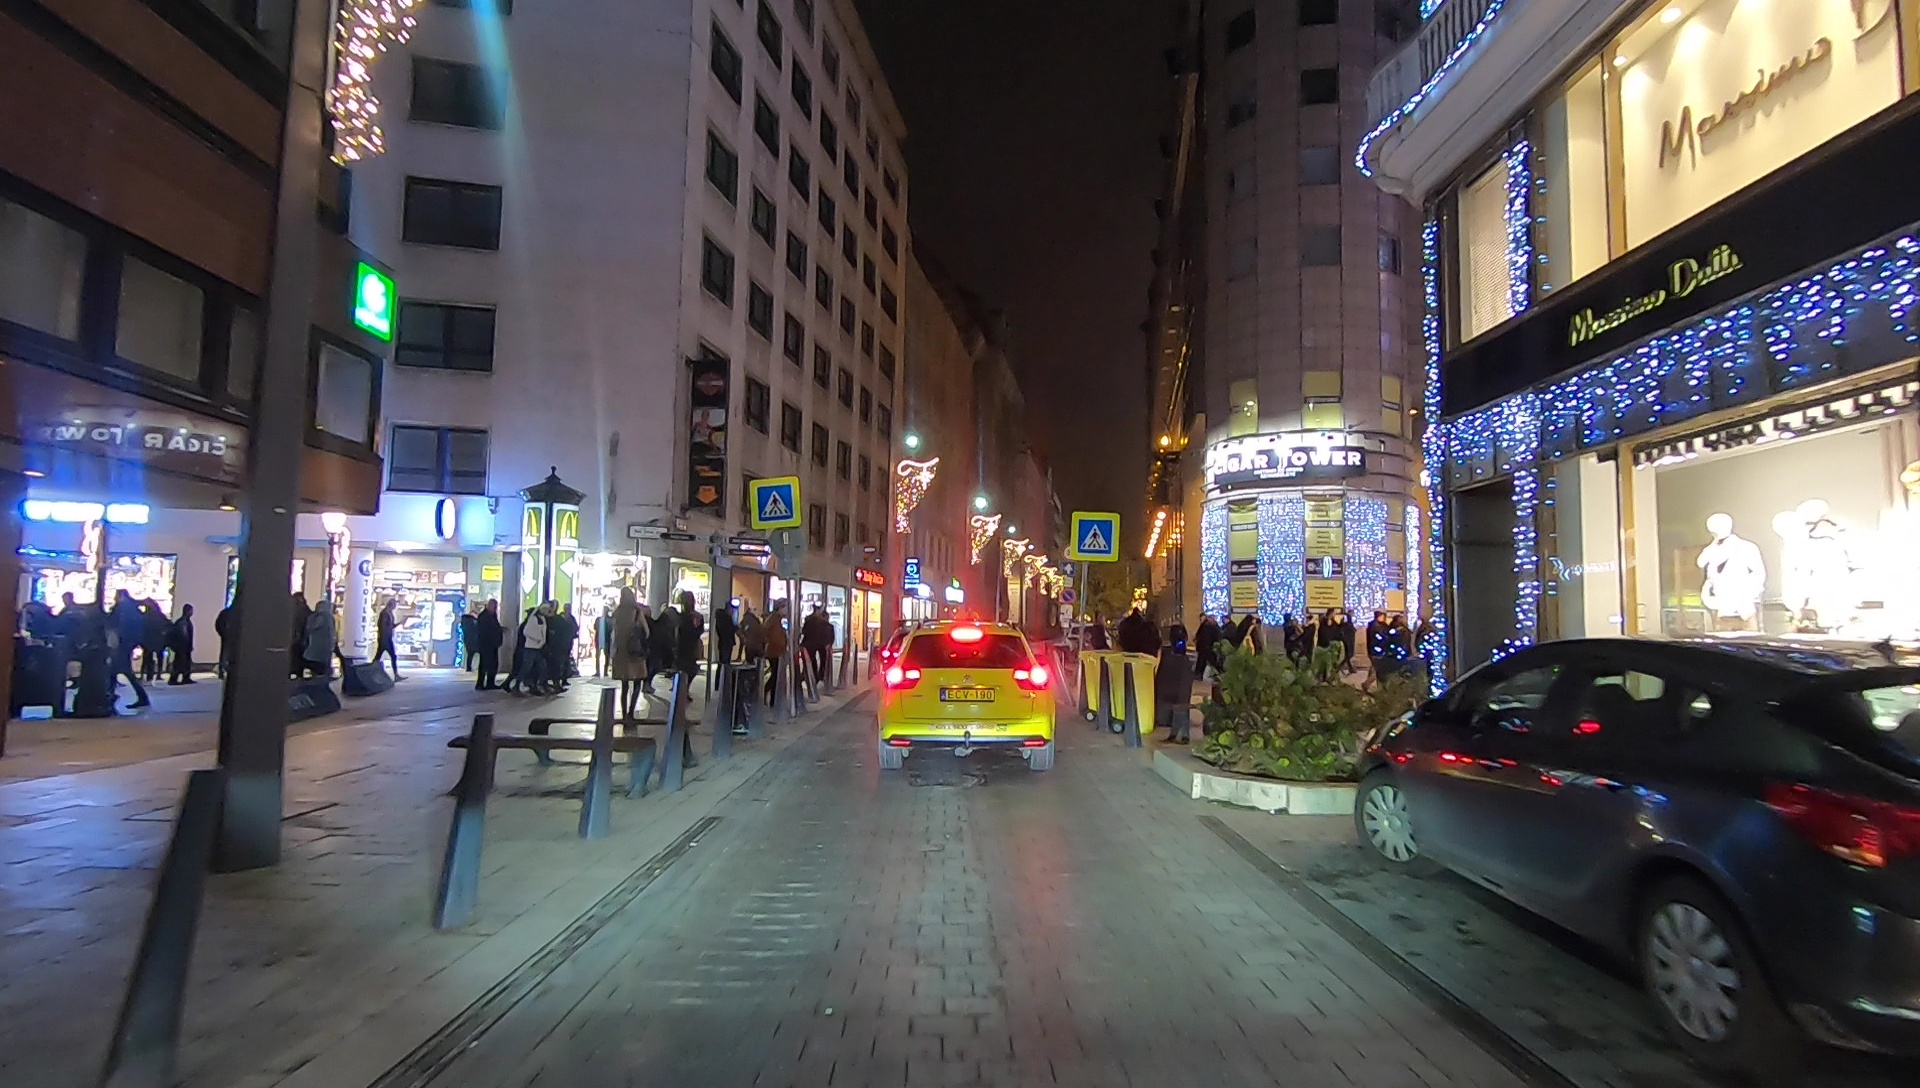person: (106, 589, 151, 717), (612, 587, 645, 723), (1121, 604, 1158, 687), (306, 600, 339, 689), (762, 602, 788, 708), (475, 597, 501, 697), (375, 599, 401, 686), (171, 608, 199, 689), (525, 606, 549, 700), (801, 599, 826, 686), (1236, 611, 1265, 686), (552, 602, 576, 693), (1367, 606, 1393, 691), (145, 597, 169, 684), (1276, 611, 1302, 686), (1197, 613, 1221, 693), (1319, 606, 1341, 676)
